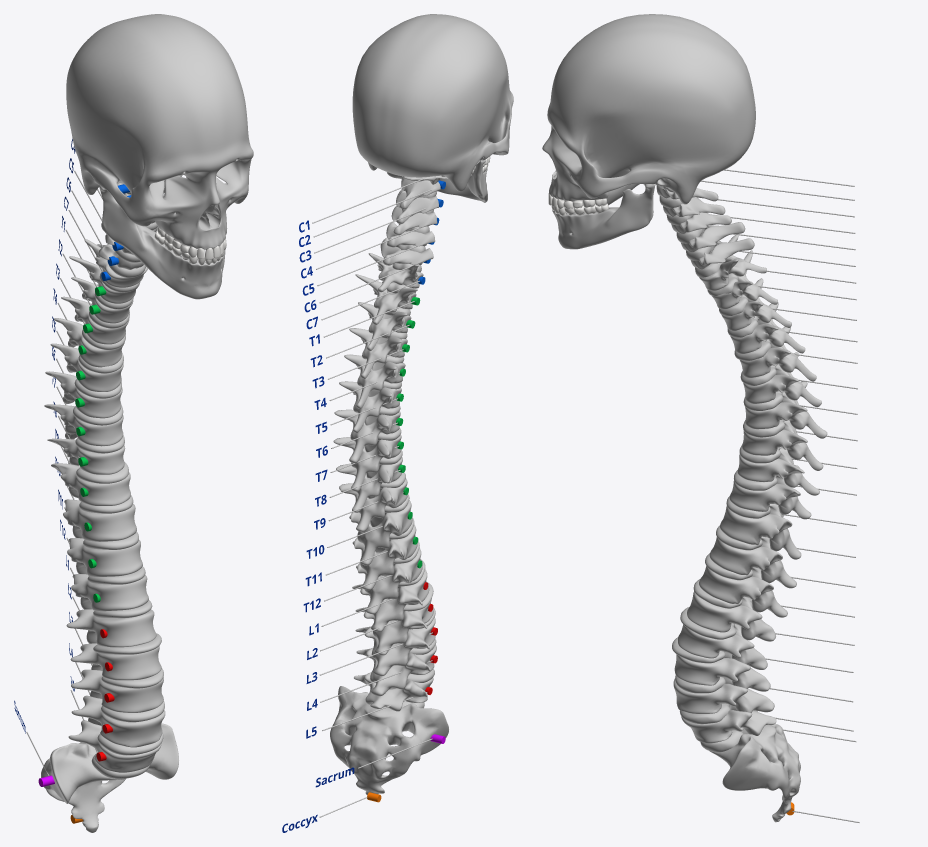
The model's file is spine.glb.
The picture shows the model from 3 angles, left to right: view 1: azimuth 30°, elevation 25°; view 2: azimuth 150°, elevation 25°; view 3: azimuth 270°, elevation 25°; orthographic projection. The views are drawn at different scales.
Parts seen in each view (by area): view 1: Male_Skeletal_Skull_Geo, Male_Skeletal_Intervertabral_Discs_Geo, Male_Skeletal_Sacrum_Geo, Male_Skeletal_Mandible_Geo, Male_Skeletal_L01_Geo, Male_Skeletal_T10_Geo, Male_Skeletal_L03_Geo, Male_Skeletal_L04_Geo, Male_Skeletal_T12_Geo, Male_Skeletal_T11_Geo, Male_Skeletal_L02_Geo, Male_Skeletal_T09_Geo (+10 smaller); view 2: Male_Skeletal_Skull_Geo, Male_Skeletal_Sacrum_Geo, Male_Skeletal_Intervertabral_Discs_Geo, Male_Skeletal_T10_Geo, Male_Skeletal_L03_Geo, Male_Skeletal_T11_Geo, Male_Skeletal_L04_Geo, Male_Skeletal_L01_Geo, Male_Skeletal_T12_Geo, Male_Skeletal_T06_Geo, Male_Skeletal_L02_Geo, Male_Skeletal_L05_Geo (+15 smaller); view 3: Male_Skeletal_Skull_Geo, Male_Skeletal_Intervertabral_Discs_Geo, Male_Skeletal_Sacrum_Geo, Male_Skeletal_Mandible_Geo, Male_Skeletal_L01_Geo, Male_Skeletal_T10_Geo, Male_Skeletal_T11_Geo, Male_Skeletal_T12_Geo, Male_Skeletal_L04_Geo, Male_Skeletal_L03_Geo, Male_Skeletal_L02_Geo, Male_Skeletal_T09_Geo (+14 smaller).
Boxes of the visible parts, left/top/right/bottom form: Male_Skeletal_Skull_Geo: left=66, top=14, right=253, bottom=249; Male_Skeletal_Intervertabral_Discs_Geo: left=73, top=222, right=164, bottom=778; Male_Skeletal_Sacrum_Geo: left=41, top=723, right=178, bottom=832; Male_Skeletal_Mandible_Geo: left=99, top=185, right=225, bottom=299; Male_Skeletal_L01_Geo: left=66, top=609, right=156, bottom=647; Male_Skeletal_T10_Geo: left=63, top=499, right=136, bottom=541; Male_Skeletal_L03_Geo: left=71, top=669, right=163, bottom=712; Male_Skeletal_L04_Geo: left=71, top=695, right=165, bottom=747; Male_Skeletal_T12_Geo: left=71, top=574, right=148, bottom=611; Male_Skeletal_T11_Geo: left=67, top=538, right=142, bottom=576; Male_Skeletal_L02_Geo: left=70, top=643, right=161, bottom=680; Male_Skeletal_T09_Geo: left=51, top=463, right=130, bottom=505; Male_Skeletal_Skull_Geo: left=352, top=14, right=513, bottom=191; Male_Skeletal_Sacrum_Geo: left=330, top=686, right=448, bottom=794; Male_Skeletal_Intervertabral_Discs_Geo: left=368, top=191, right=437, bottom=708; Male_Skeletal_T10_Geo: left=349, top=500, right=412, bottom=565; Male_Skeletal_L03_Geo: left=355, top=617, right=435, bottom=676; Male_Skeletal_T11_Geo: left=352, top=524, right=417, bottom=590; Male_Skeletal_L04_Geo: left=356, top=645, right=436, bottom=696; Male_Skeletal_L01_Geo: left=352, top=569, right=429, bottom=631; Male_Skeletal_T12_Geo: left=356, top=548, right=422, bottom=614; Male_Skeletal_T06_Geo: left=334, top=409, right=400, bottom=463; Male_Skeletal_L02_Geo: left=355, top=598, right=433, bottom=655; Male_Skeletal_L05_Geo: left=354, top=672, right=433, bottom=711; Male_Skeletal_Skull_Geo: left=542, top=14, right=755, bottom=204; Male_Skeletal_Intervertabral_Discs_Geo: left=659, top=196, right=784, bottom=752; Male_Skeletal_Sacrum_Geo: left=709, top=710, right=800, bottom=822; Male_Skeletal_Mandible_Geo: left=552, top=184, right=655, bottom=249; Male_Skeletal_L01_Geo: left=687, top=591, right=775, bottom=641; Male_Skeletal_T10_Geo: left=720, top=504, right=801, bottom=559; Male_Skeletal_T11_Geo: left=709, top=536, right=796, bottom=588; Male_Skeletal_T12_Geo: left=699, top=566, right=787, bottom=617; Male_Skeletal_L04_Geo: left=673, top=677, right=774, bottom=713; Male_Skeletal_L03_Geo: left=674, top=652, right=770, bottom=691; Male_Skeletal_L02_Geo: left=678, top=624, right=767, bottom=669; Male_Skeletal_T09_Geo: left=729, top=465, right=811, bottom=519.
Bounding box in the file's own units: 0.1387 × 0.8166 × 0.3439.
